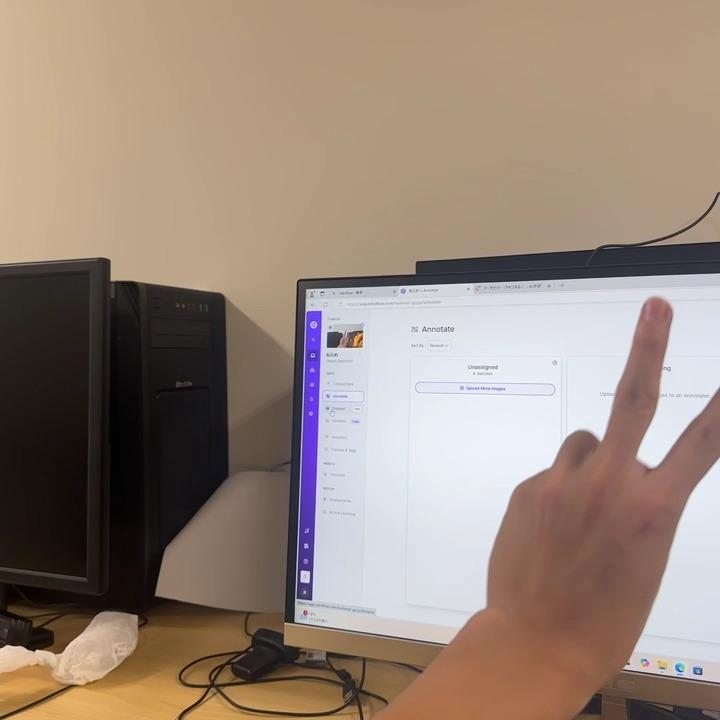without_gloves: (417, 270, 720, 702)
